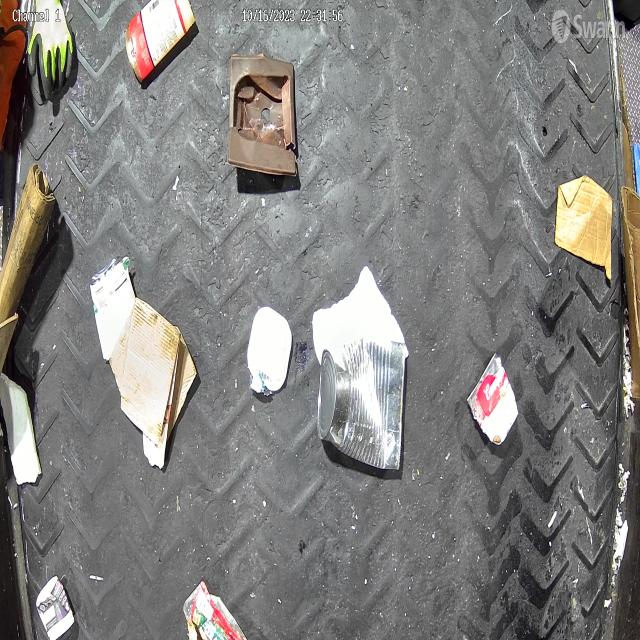can: (317, 339, 405, 471), (90, 252, 136, 360), (467, 353, 519, 446)
